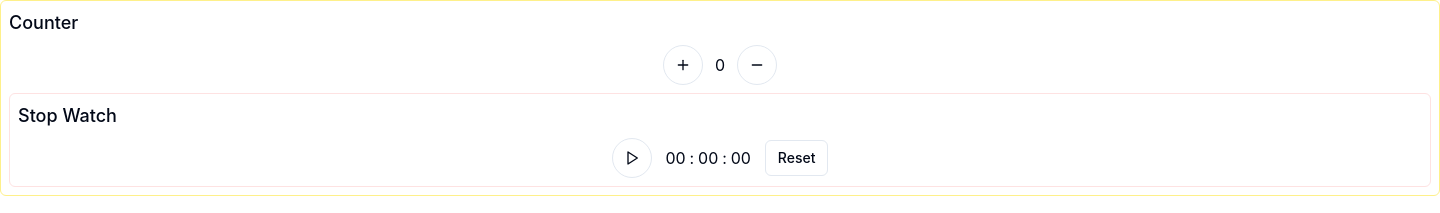
it: CounterContext › updates counter value when increment or decrement button is clicked
This screenshot has width=1440, height=213.
Expected: the text with test id "counter-value" reads "0", [715,55,725,75]
Click the button with test id "increment-button": (683, 65) [663,45,703,85]
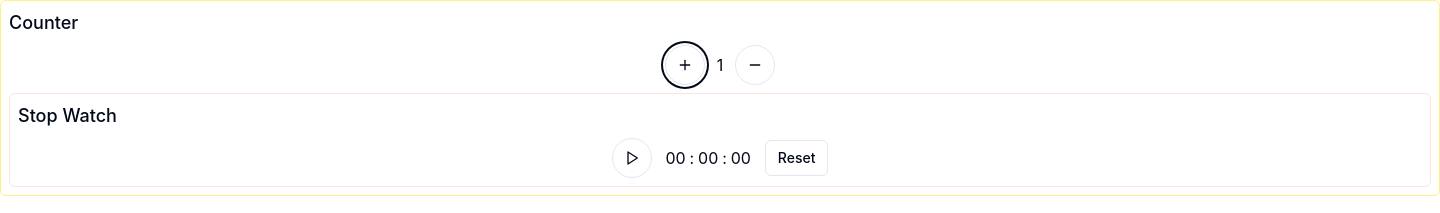
Expected: the text with test id "counter-value" reads "1", [717,55,723,75]
Click the button with test id "decrement-button": (755, 65) [735,45,775,85]
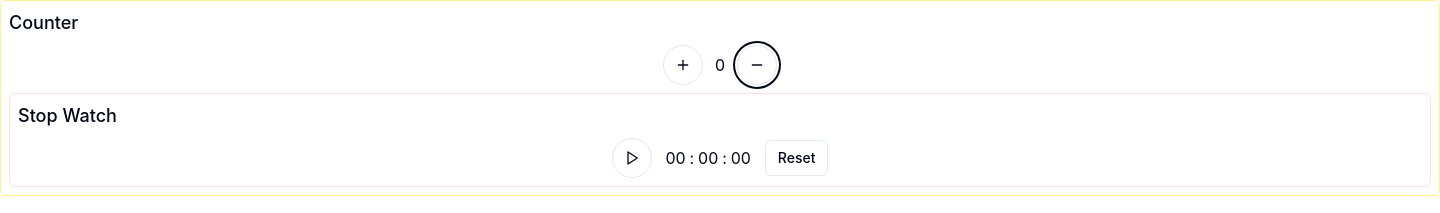
Click the button with test id "decrement-button": (757, 65) [737,45,777,85]
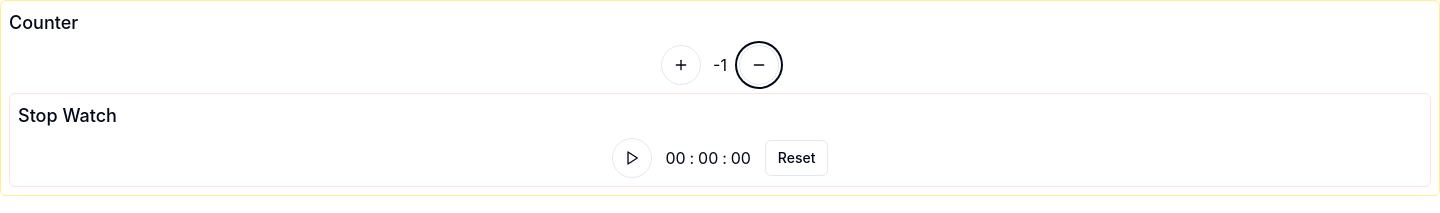
Expected: the text with test id "counter-value" reads "-1", [713,55,727,75]
